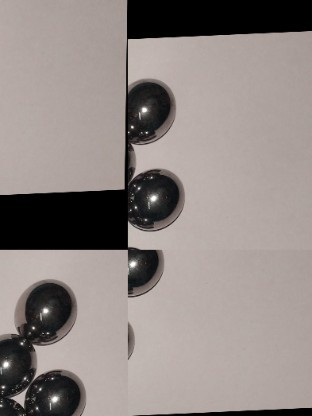ironball: (12, 279, 82, 346), (125, 165, 189, 230), (129, 76, 185, 145), (21, 367, 93, 416), (0, 329, 39, 401), (130, 249, 172, 298)
